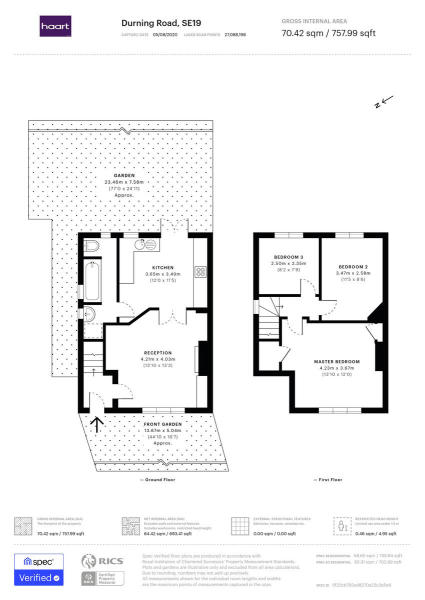GardenMeasurements: (93, 160, 153, 208)
GrossArea: (268, 7, 383, 47)
